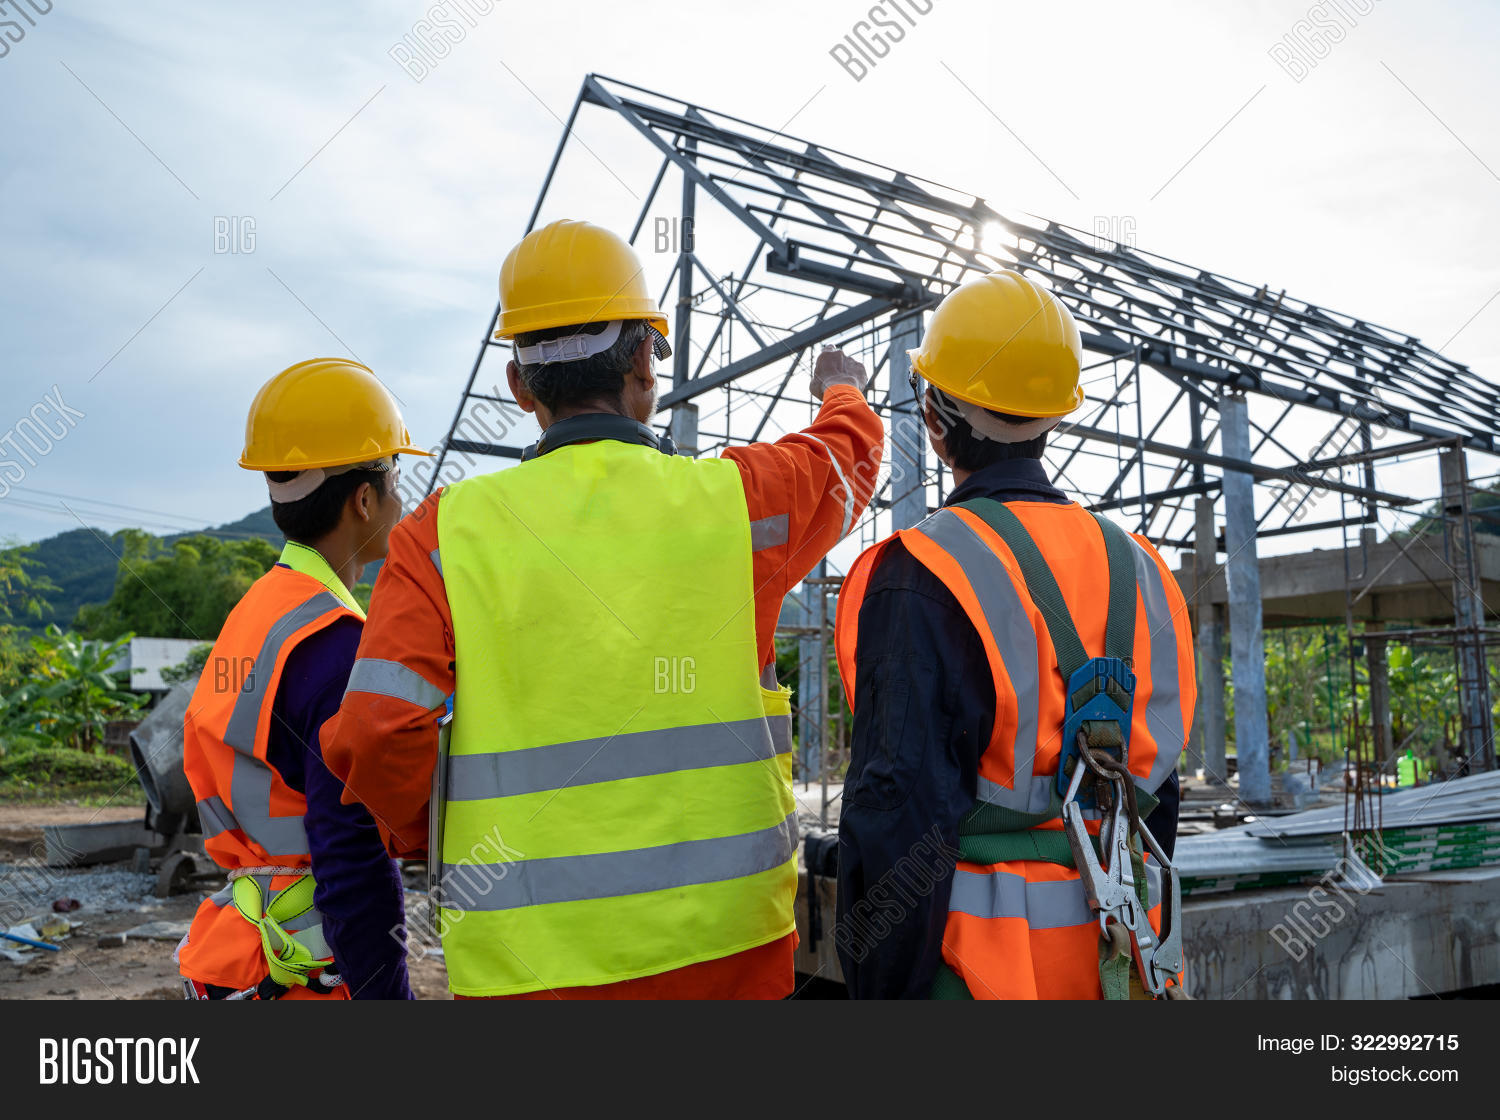With Helmet: (474, 205, 686, 442), (908, 249, 1101, 495), (234, 348, 446, 565)
